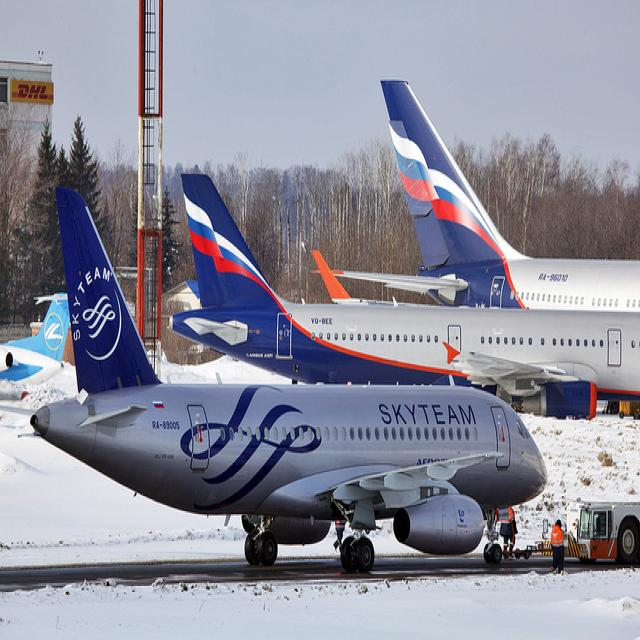Vehicle: (578, 500, 640, 564)
